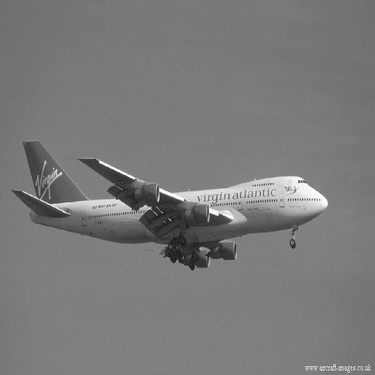airplane: (7, 125, 333, 266)
